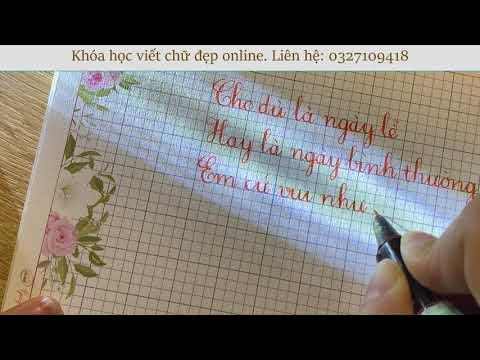text: (205, 115, 479, 206), (209, 76, 401, 150), (195, 151, 371, 215), (71, 47, 411, 65)
